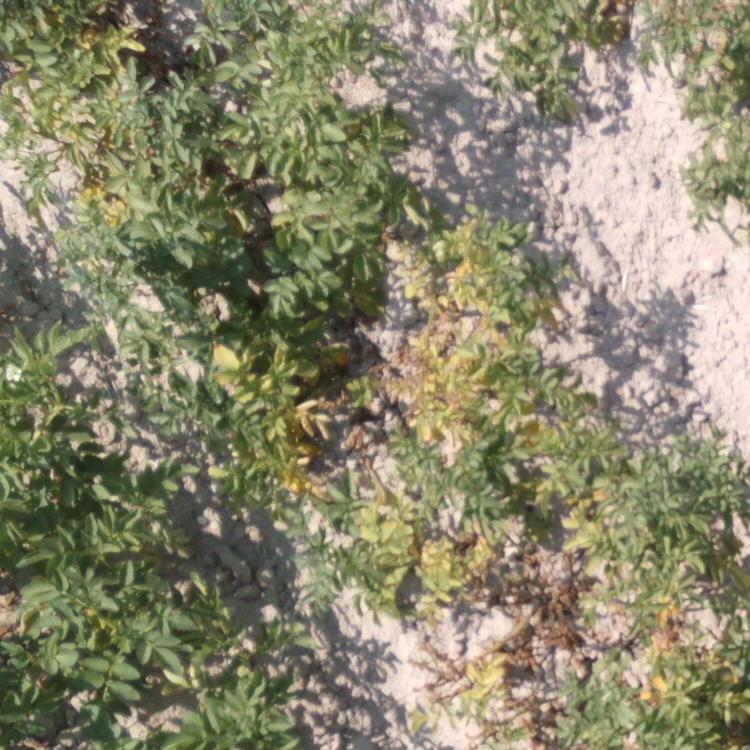healthy: (10, 587, 296, 750), (1, 334, 178, 575), (446, 1, 626, 138), (665, 4, 750, 192)
stressed: (100, 1, 369, 299), (408, 392, 598, 750), (601, 442, 748, 750), (389, 208, 565, 383), (204, 317, 370, 495), (1, 1, 94, 163), (327, 480, 395, 604)
